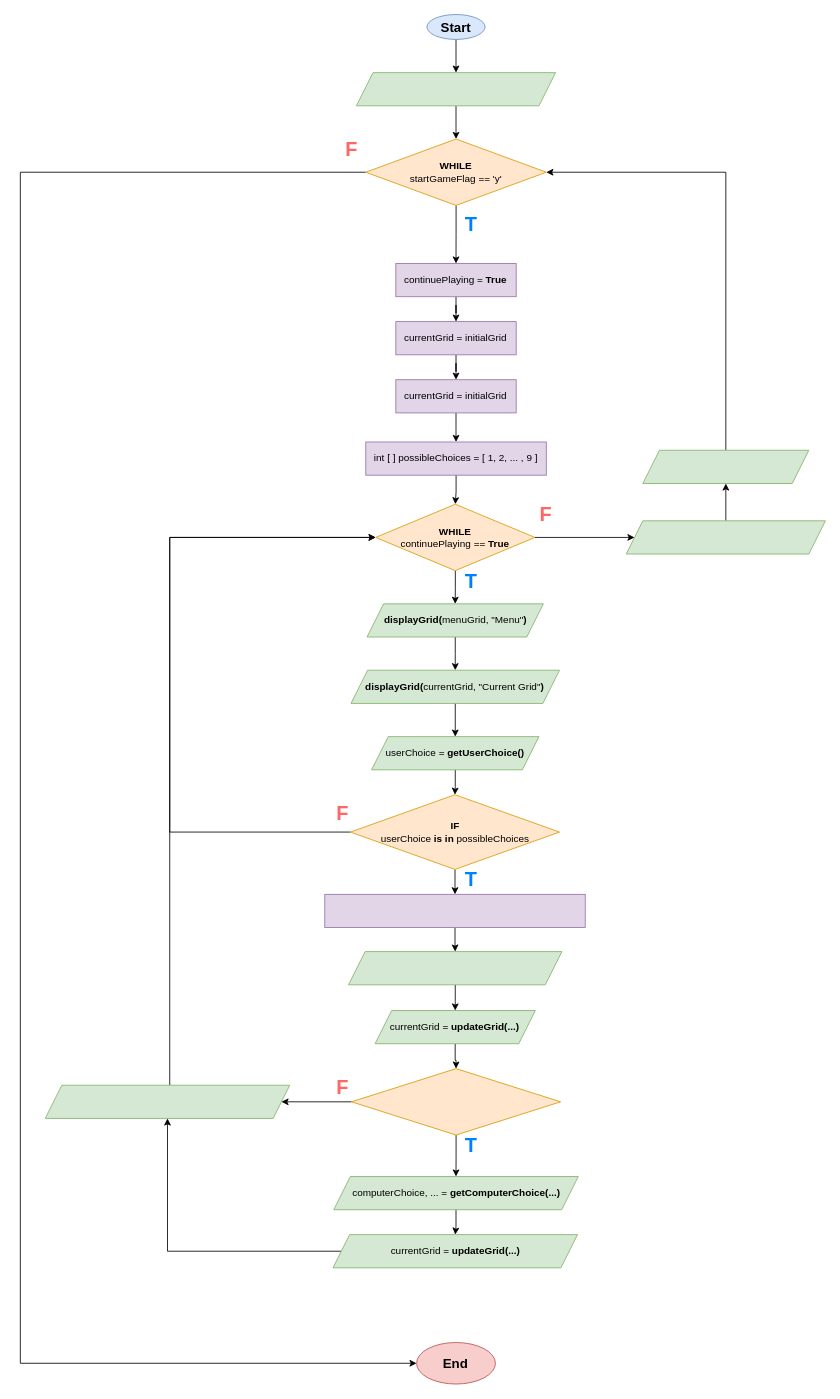
The diagram is 840 pixels wide and 1399 high, and some of its shapes have lost their labels. Each missing label, with the centre of its shape:
announceWinner( winner ): (x=725, y=466)
continuePlaying, winner = checkForWinner(...): (x=167, y=1101)
displayGrid( currentGrid, "Final Grid" ): (x=725, y=537)
IF length of possibleChoices != 0: (x=456, y=1101)
possibleChoices .pop( userChoiceIndex ): (x=455, y=968)
startGameFlag = getStartResponse(): (x=456, y=89)
userChoiceIndex = possibleChoices .index( userChoice ): (x=454, y=910)
